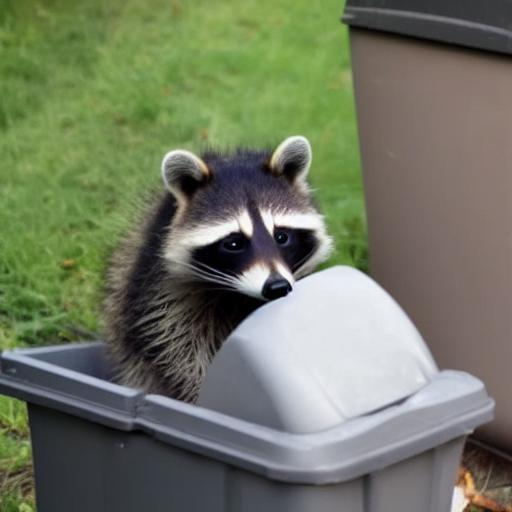raccoon: (92, 127, 340, 407)
